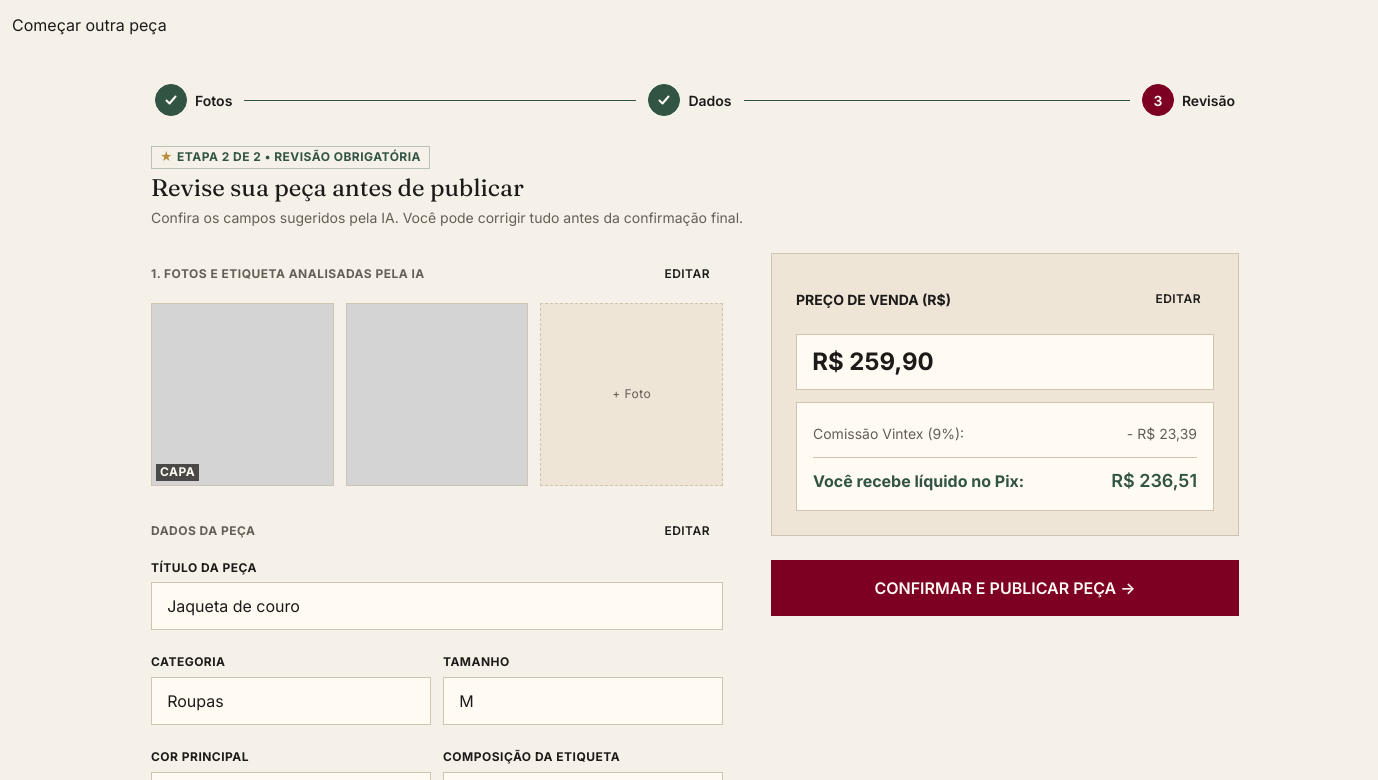
it: Review › erro do back com mensagem própria vai para o Toast como veio
Click the button "Confirmar e publicar peça →" at (1005, 588), box [771,560,1239,616]
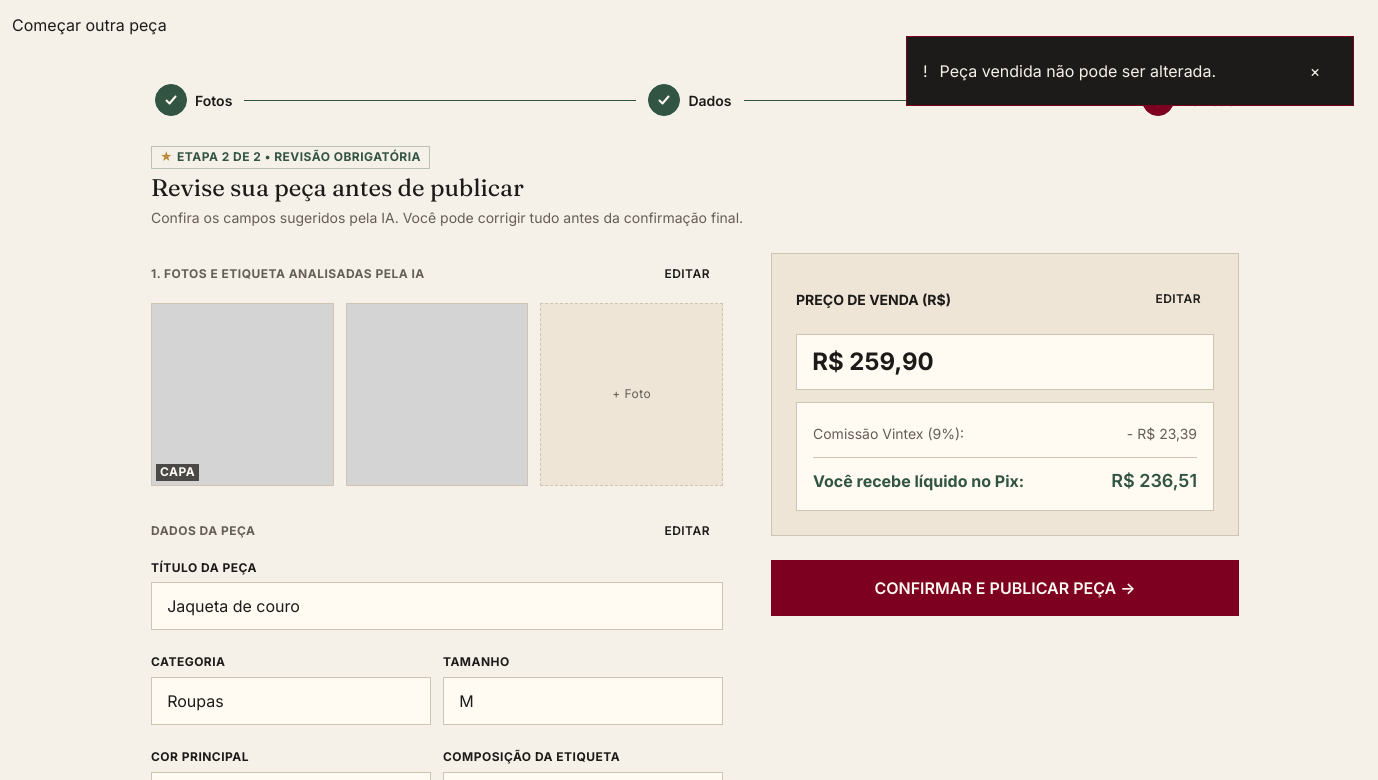
Now the message shows "Peça vendida não pode ser alterada.", box [940,61,1216,81]
